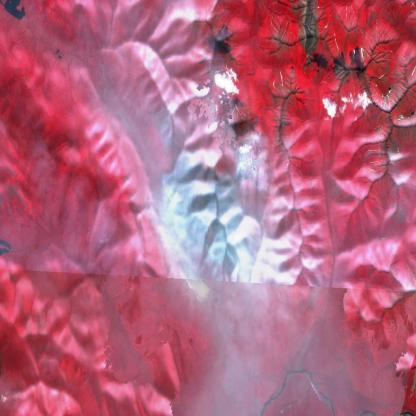fire: (157, 131, 259, 295)
